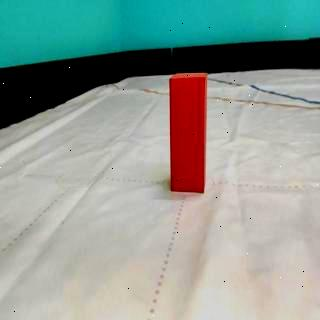redbox: (170, 72, 207, 194)
